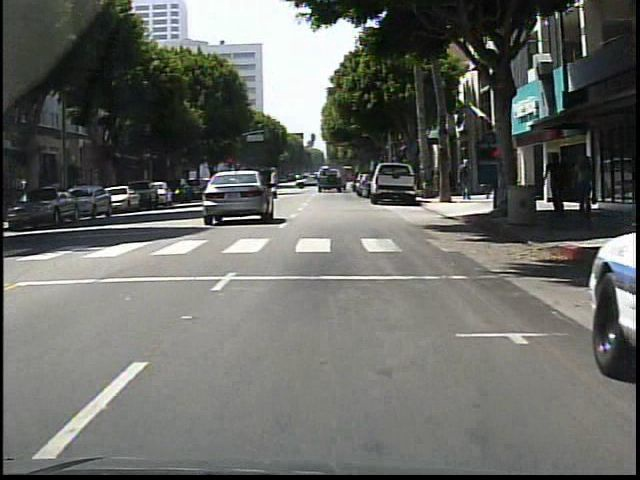person: (571, 152, 593, 221), (543, 152, 567, 214), (460, 156, 477, 199), (271, 166, 284, 201)
